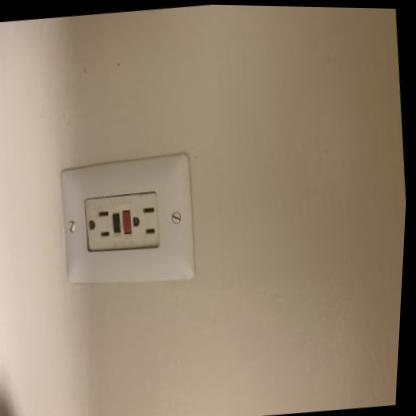OUTLET: (53, 148, 202, 288)
